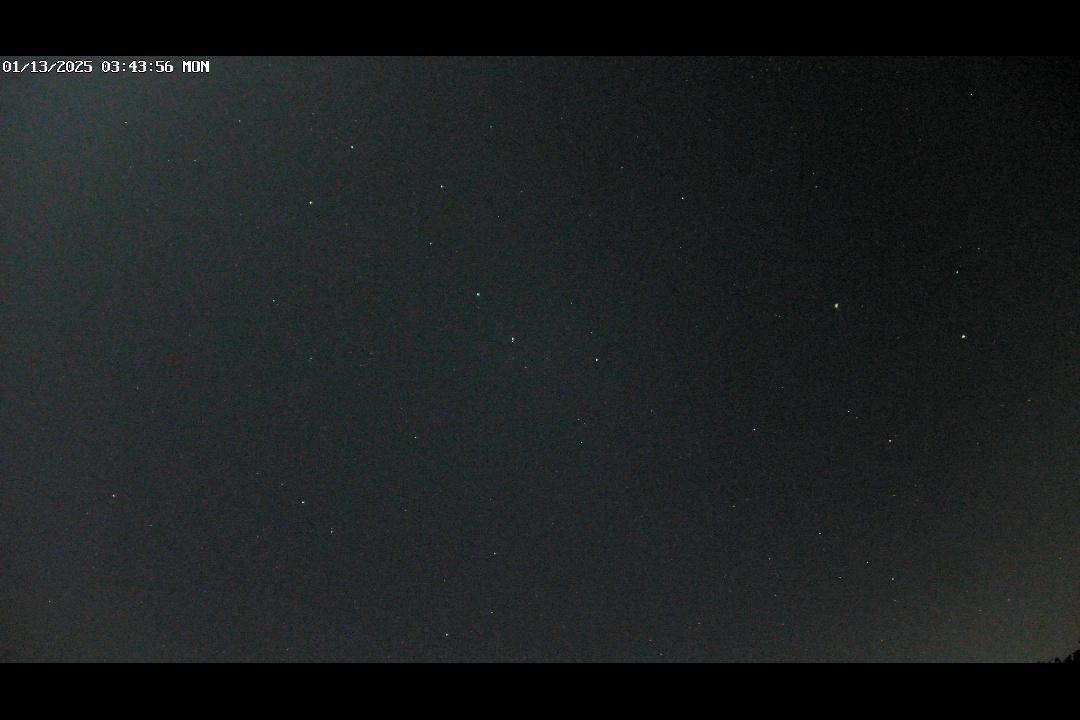Plane: (827, 299, 861, 330)
